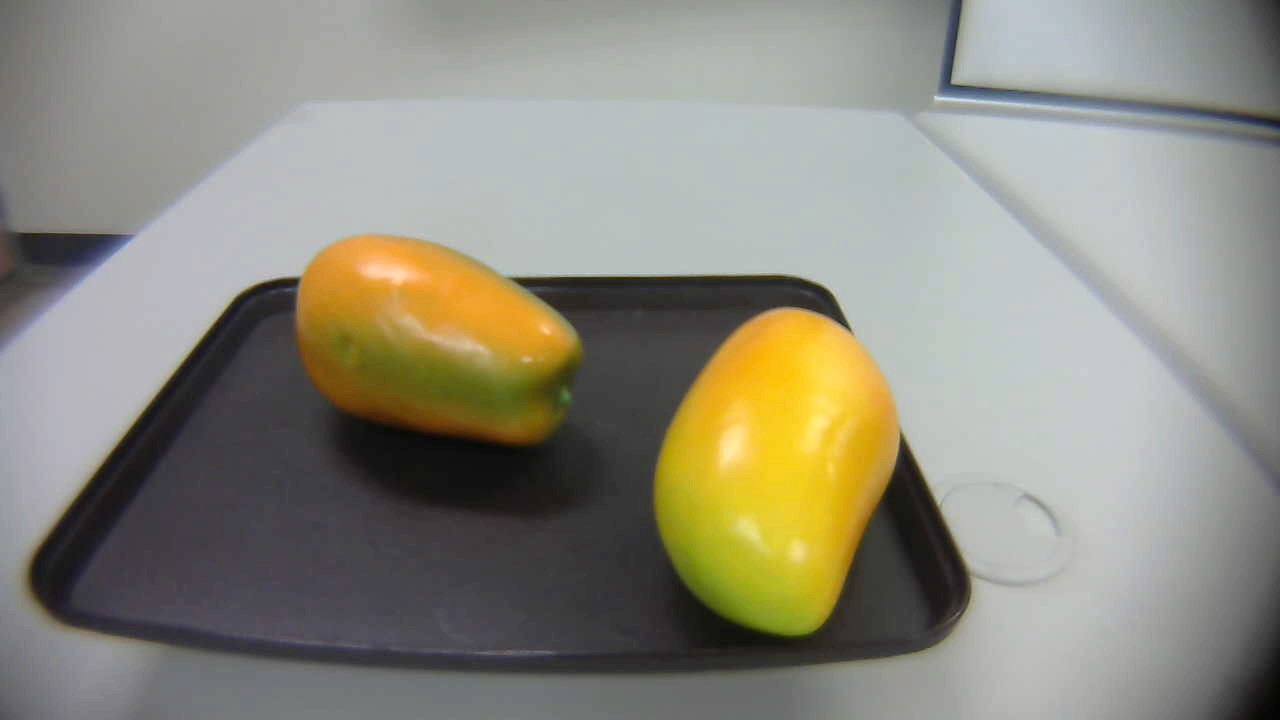papya: (283, 227, 594, 459)
yellow mango: (644, 300, 904, 634)
